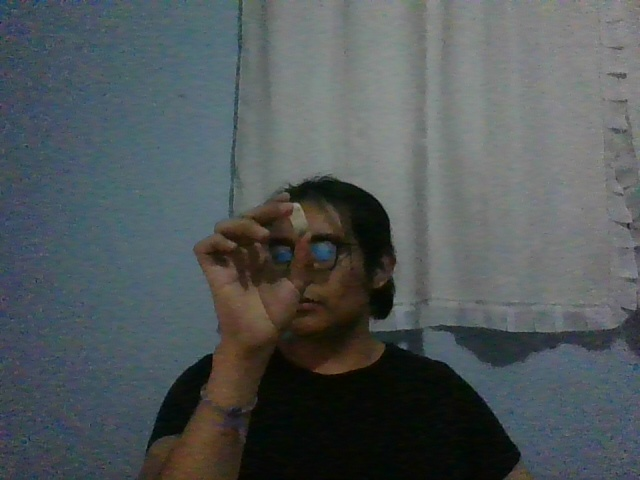goma: (288, 202, 308, 236)
